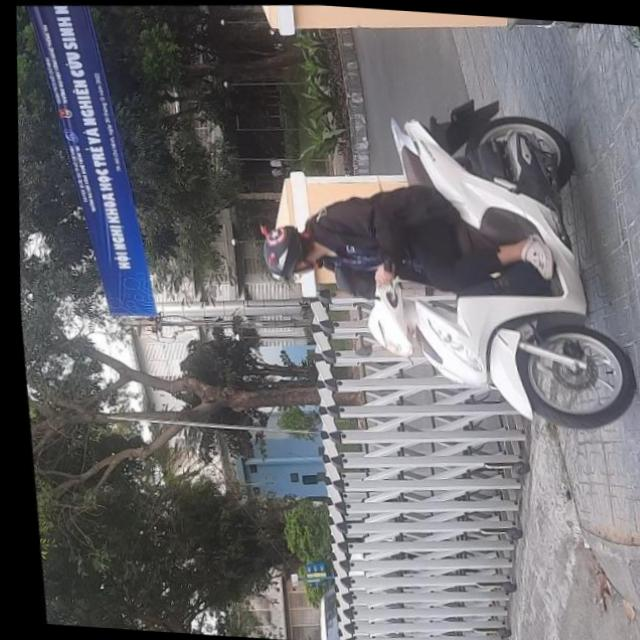WITH_HELMET: (249, 220, 307, 280)
